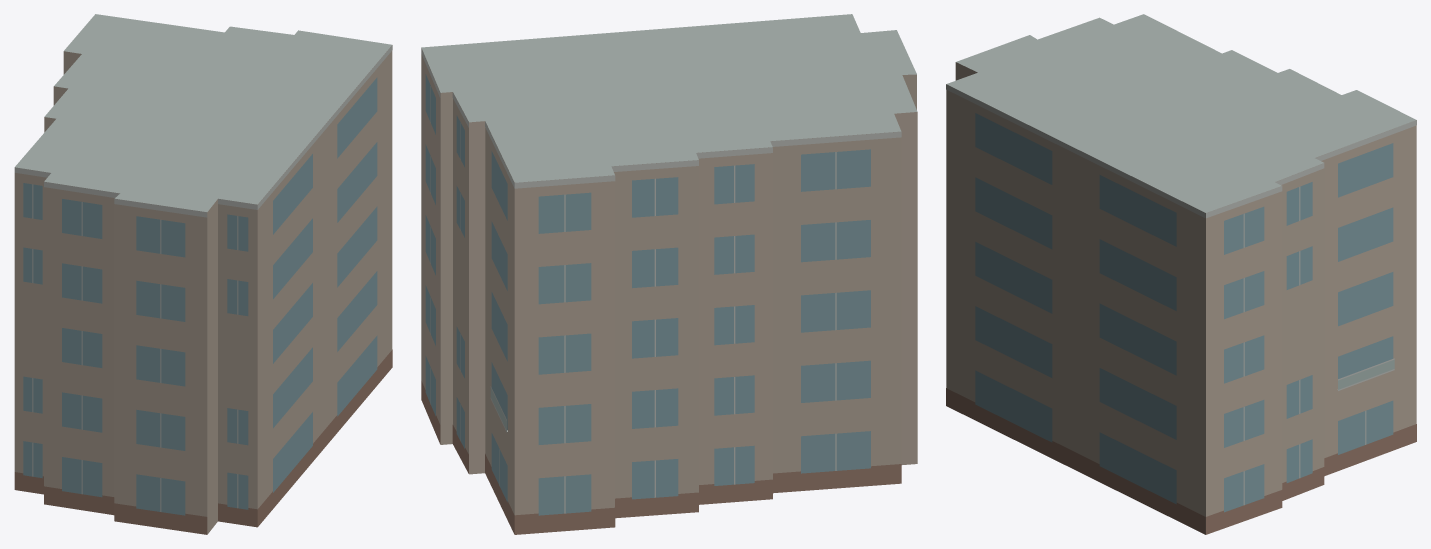
File: survey-upis-32875446.glb
The picture shows the model from 3 angles, left to right: view 1: azimuth 30°, elevation 25°; view 2: azimuth 150°, elevation 25°; view 3: azimuth 270°, elevation 25°; orthographic projection. The views are drawn at different scales.
Visible parts, largest first — view 1: survey-upis-32875446.tmp; view 2: survey-upis-32875446.tmp; view 3: survey-upis-32875446.tmp.
Part boxes in pixels (bbox=[...]): survey-upis-32875446.tmp: bbox=[14, 14, 392, 534]; survey-upis-32875446.tmp: bbox=[421, 14, 917, 534]; survey-upis-32875446.tmp: bbox=[946, 14, 1416, 534].
Bounding box in the file's own units: 19.24 × 14.5 × 19.22.
